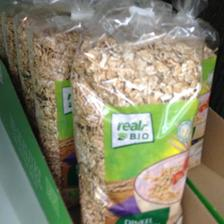Cerealien: (68, 33, 202, 222)
